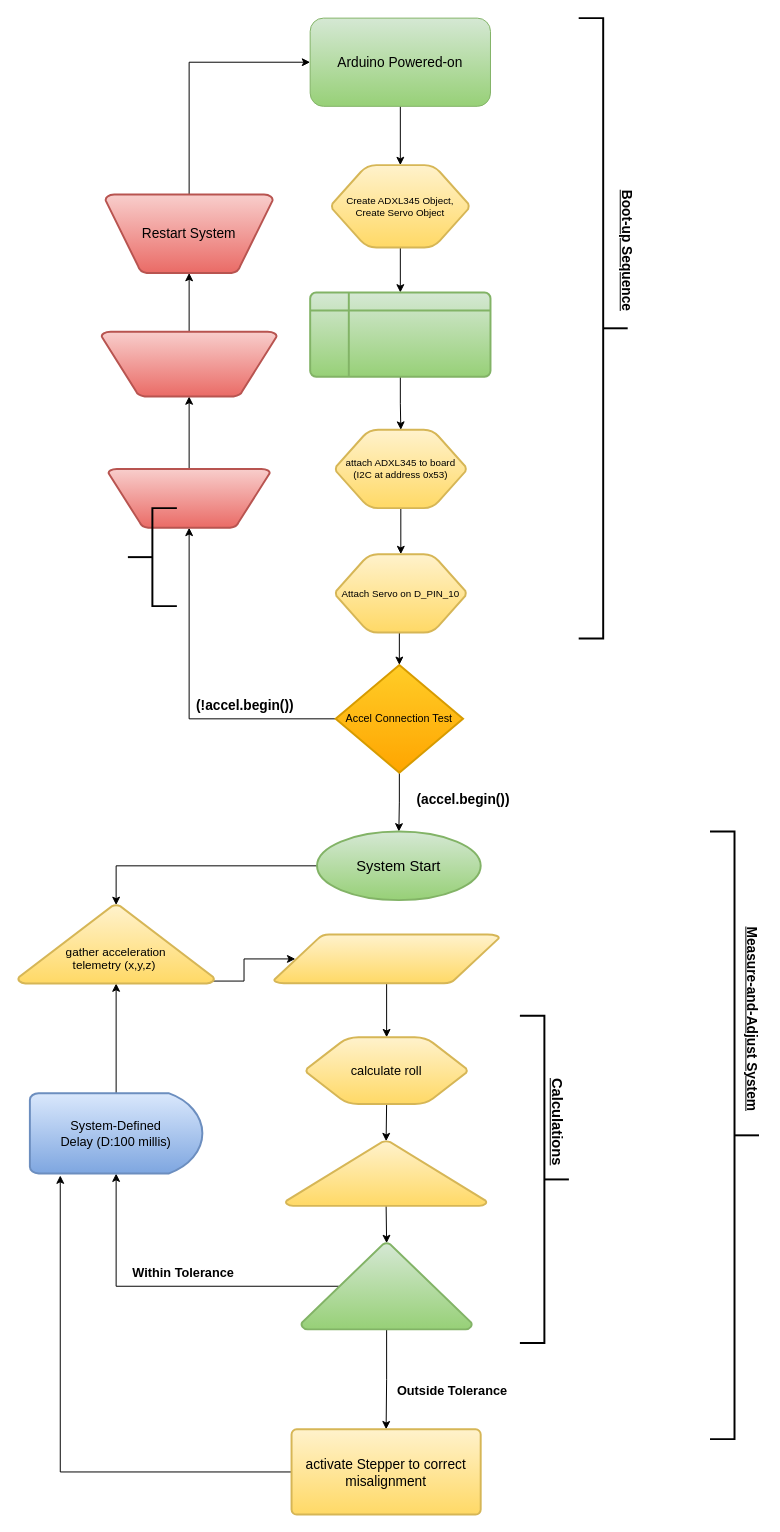
Image size: 780x1532. Some labels were removed from this diagram. Each missing label, with the centre of its shape:
create accelerometer event object: point (386, 958)
Disengage System: point (188, 497)
Global Variables Set: point (400, 334)
Rewire Accelerometer: point (188, 363)
Scale roll to servo range: point (385, 1173)
scaled roll within activation boundaries?: point (386, 1286)
